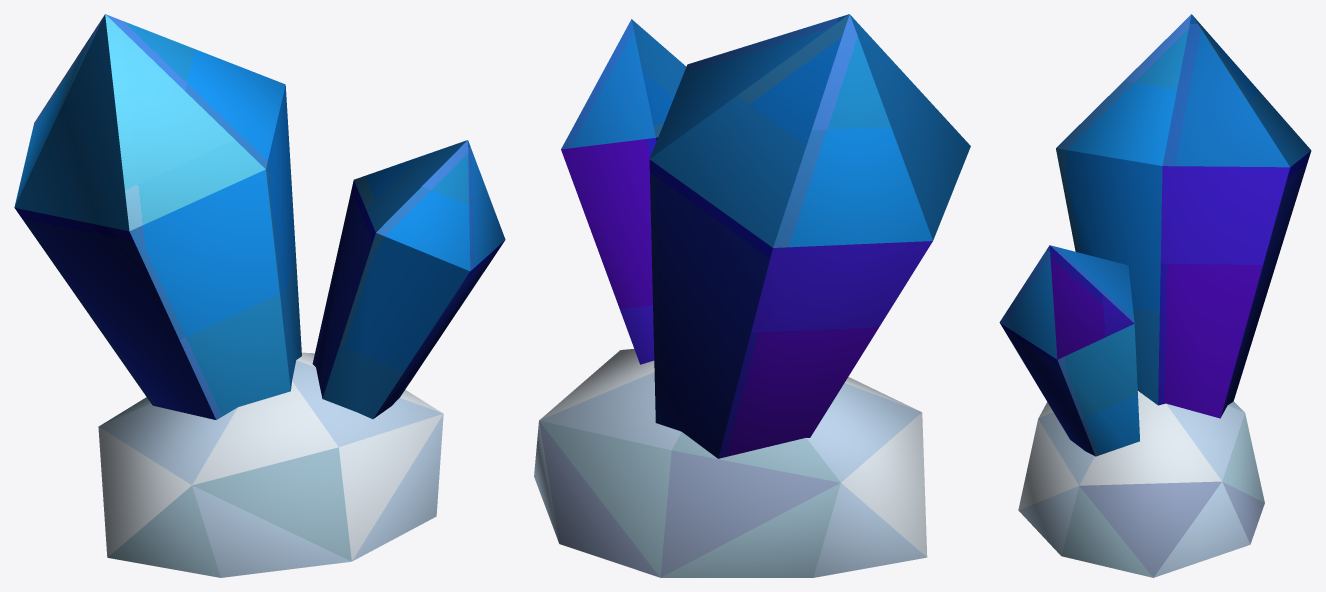
The model's file is fg_sapphire.dae.
3 renders of one model, left to right at view 1: azimuth 30°, elevation 25°; view 2: azimuth 150°, elevation 25°; view 3: azimuth 270°, elevation 25°, orthographic. The views are drawn at different scales.
Parts seen in each view (by area): view 1: fg_sapphire; view 2: fg_sapphire; view 3: fg_sapphire.
Part boxes in pixels (bbox=[...]): fg_sapphire: bbox=[14, 14, 505, 577]; fg_sapphire: bbox=[534, 14, 970, 577]; fg_sapphire: bbox=[999, 14, 1311, 577].
Bounding box in the file's own units: 12.78 × 15.34 × 9.96.
1 material, 1 textured.
